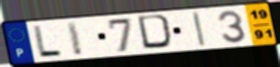3: (216, 9, 249, 45)
7: (105, 18, 136, 53)
D: (136, 13, 177, 51)
I: (65, 20, 86, 57), (190, 10, 208, 48)
L: (31, 24, 65, 57)
